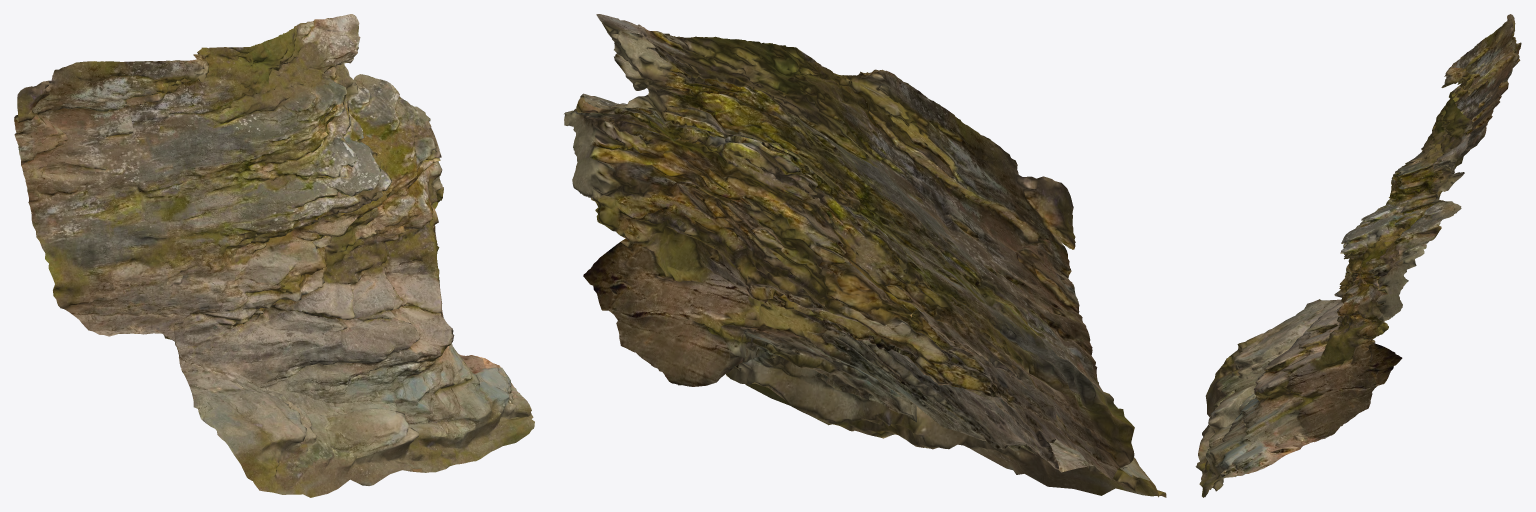
Rendered from rock_face_02.glb.
3 renders of one model, left to right at view 1: azimuth 30°, elevation 25°; view 2: azimuth 150°, elevation 25°; view 3: azimuth 270°, elevation 25°, orthographic. The views are drawn at different scales.
Visible parts, largest first — view 1: rock_face_02; view 2: rock_face_02; view 3: rock_face_02.
Boxes of the visible parts, bbox=[...] form: rock_face_02: bbox=[14, 14, 534, 497]; rock_face_02: bbox=[564, 14, 1166, 497]; rock_face_02: bbox=[1195, 14, 1521, 497].
Bounding box in the file's own units: 2.71 × 2.47 × 2.13.
Materials: 1 (1 with a texture image).
